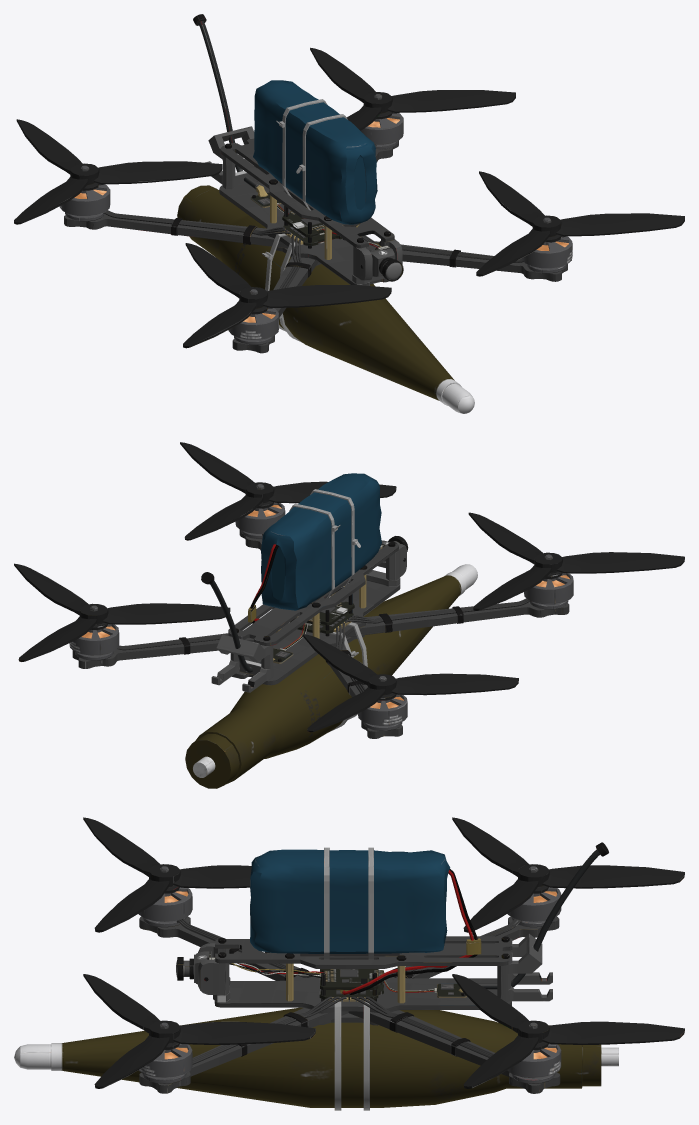
Rendered from fpv_kamikaze_drone_low_poly.glb.
The picture shows the model from 3 angles, top to bottom: view 1: azimuth 30°, elevation 25°; view 2: azimuth 150°, elevation 25°; view 3: azimuth 270°, elevation 25°; orthographic projection. The views are drawn at different scales.
Visible parts, largest first — view 1: body, rotor_front_left, rotor_front_right, rotor_back_left, rotor_back_right; view 2: body, rotor_front_right, rotor_back_right, rotor_front_left, rotor_back_left; view 3: body, rotor_front_left, rotor_front_right, rotor_back_right, rotor_back_left.
Part boxes in pixels (left/top/right/bottom): body: left=59, top=14, right=572, bottom=413; rotor_front_left: left=476, top=171, right=684, bottom=275; rotor_front_right: left=183, top=243, right=391, bottom=348; rotor_back_left: left=310, top=47, right=515, bottom=119; rotor_back_right: left=14, top=119, right=99, bottom=224; body: left=69, top=473, right=573, bottom=788; rotor_front_right: left=468, top=512, right=684, bottom=610; rotor_back_right: left=302, top=634, right=518, bottom=732; rotor_front_left: left=180, top=442, right=396, bottom=540; rotor_back_left: left=14, top=563, right=108, bottom=661; body: left=14, top=842, right=618, bottom=1110; rotor_front_left: left=83, top=974, right=315, bottom=1088; rotor_front_right: left=83, top=817, right=251, bottom=932; rotor_back_right: left=452, top=817, right=684, bottom=930; rotor_back_left: left=463, top=1020, right=684, bottom=1088.
Bounding box in the file's own units: 0.3087 × 0.1401 × 0.3245.
Materials: 1 (1 with a texture image).
